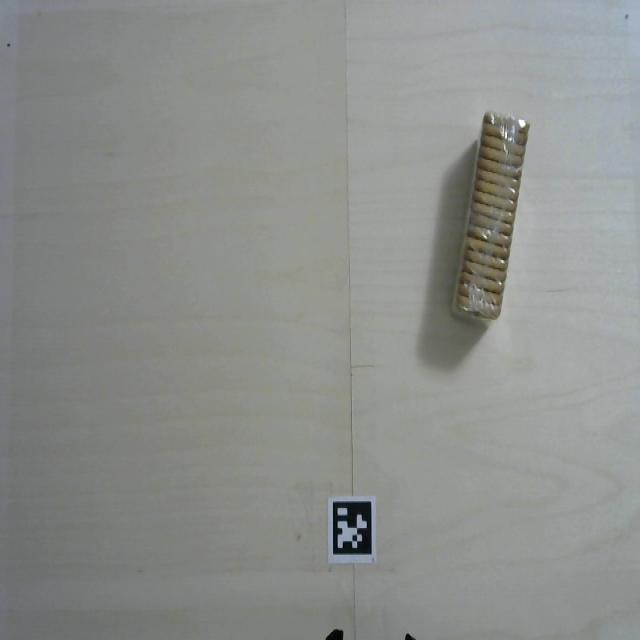biscuit: (450, 104, 541, 337)
